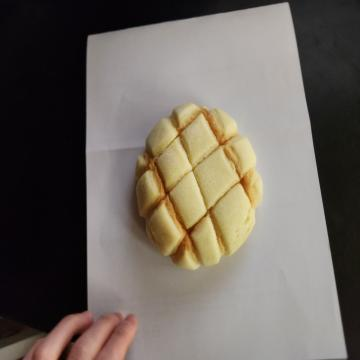melon_bread: (136, 104, 264, 272)
